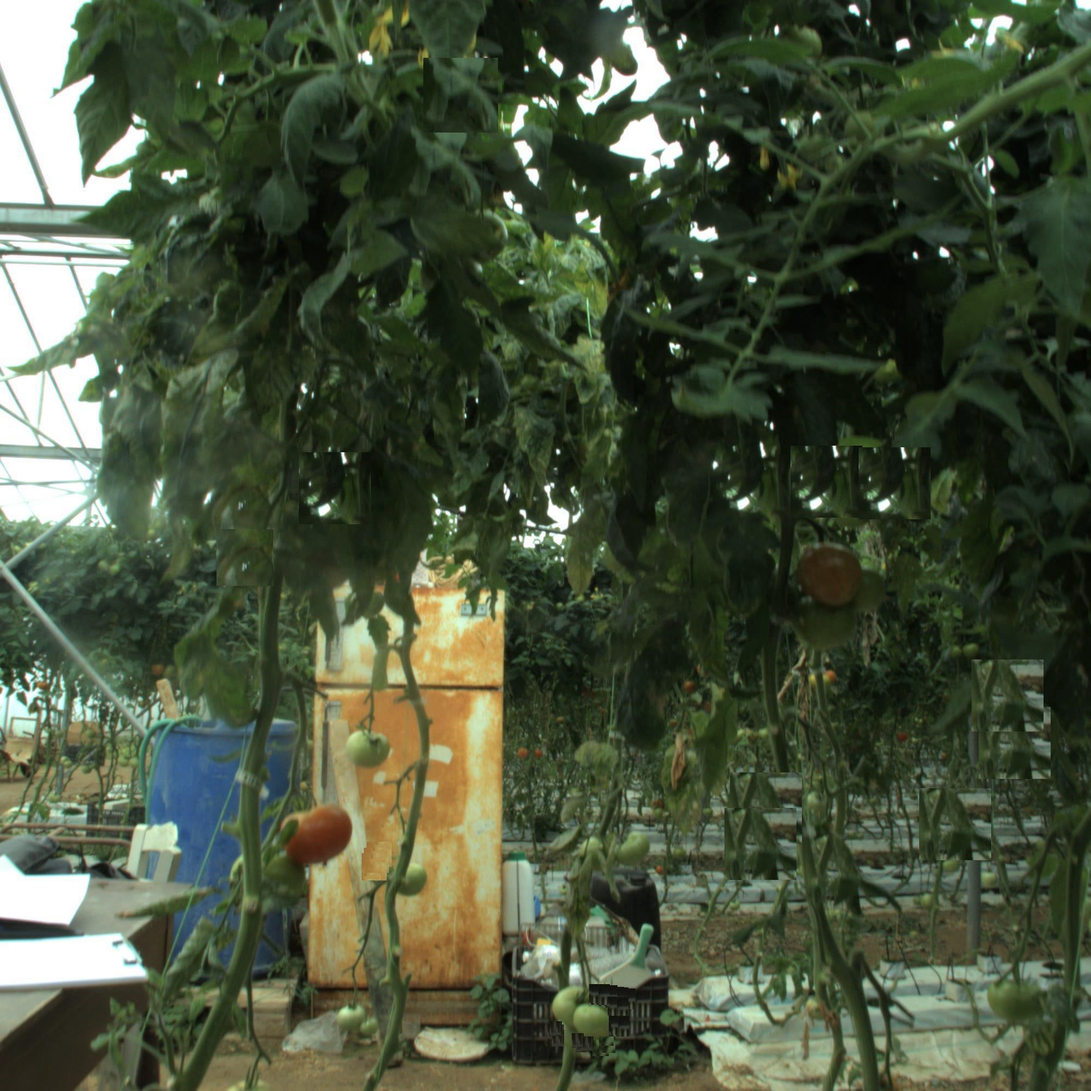['unripe', 'semi-ripe', 'fully-ripe']: (794, 585, 859, 650), (992, 973, 1037, 1018), (344, 726, 388, 771), (390, 860, 429, 899), (615, 828, 650, 863), (573, 1004, 608, 1039), (552, 990, 587, 1024)
